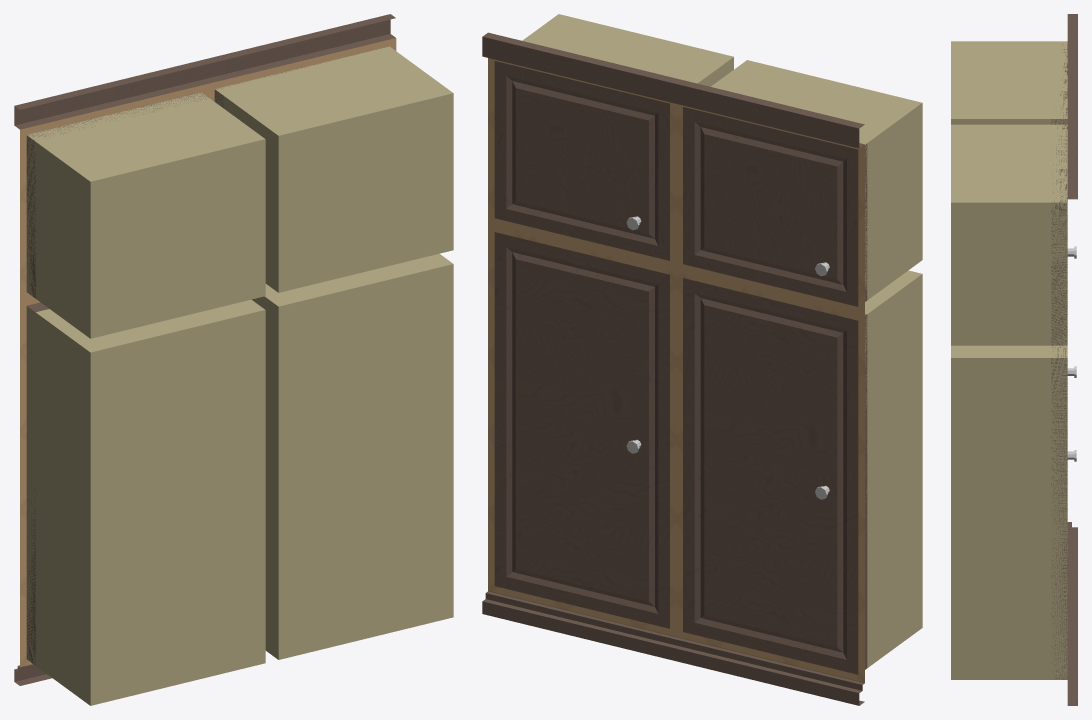
The model's file is Wall Room Integrated Wardrobes (1).fbx.
The picture shows the model from 3 angles, left to right: view 1: azimuth 30°, elevation 25°; view 2: azimuth 150°, elevation 25°; view 3: azimuth 270°, elevation 25°; orthographic projection. The views are drawn at different scales.
Parts seen in each view (by area): view 1: Wall Room Integrated Wardrobes.001; view 2: Wall Room Integrated Wardrobes.001; view 3: Wall Room Integrated Wardrobes.001.
Part boxes in pixels (x1,y1,x2,y2): Wall Room Integrated Wardrobes.001: [14, 14, 453, 705]; Wall Room Integrated Wardrobes.001: [482, 14, 922, 705]; Wall Room Integrated Wardrobes.001: [951, 14, 1077, 705].
Bounding box in the file's own units: 4 × 5.85 × 1.28.
